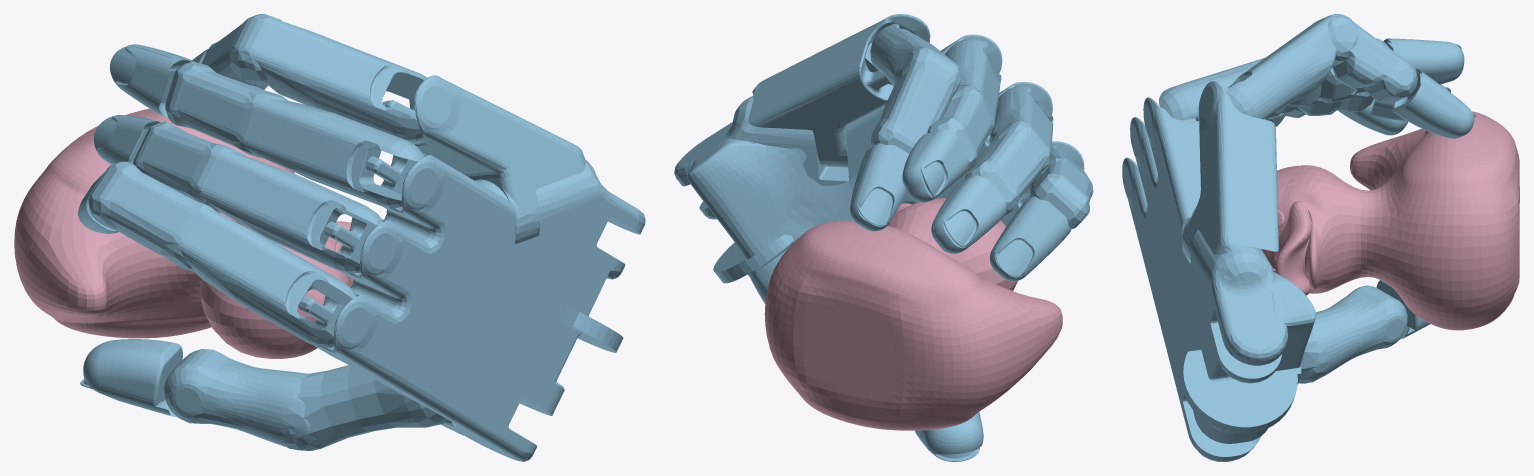
3 views of the same model, side by side, from view 1: azimuth 30°, elevation 25°; view 2: azimuth 150°, elevation 25°; view 3: azimuth 270°, elevation 25° (orthographic). The views are drawn at different scales.
Visible parts, largest first — view 1: world; view 2: world; view 3: world.
Part boxes in pixels (x1,y1,x2,y2): world: (14, 14, 645, 461); world: (674, 14, 1093, 461); world: (1122, 14, 1519, 461).
Size of the model in its own units: 0.1652 by 0.137 by 0.1335.
